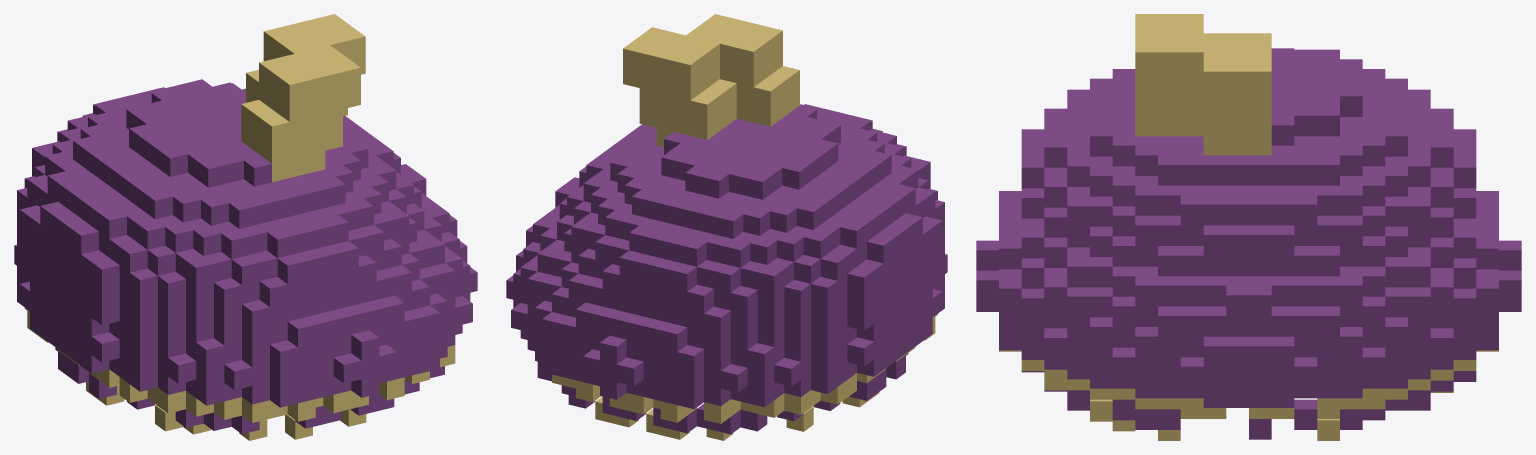
File: cloth_epic_shoulder_L.glb
3 views of the same model, side by side, from view 1: azimuth 30°, elevation 25°; view 2: azimuth 150°, elevation 25°; view 3: azimuth 270°, elevation 25° (orthographic). The views are drawn at different scales.
Parts seen in each view (by area): view 1: cloth_epic_shoulder_L; view 2: cloth_epic_shoulder_L; view 3: cloth_epic_shoulder_L.
Part boxes in pixels (x1,y1,x2,y2): cloth_epic_shoulder_L: (14, 14, 477, 440); cloth_epic_shoulder_L: (506, 14, 947, 440); cloth_epic_shoulder_L: (976, 14, 1521, 440).
Bounding box in the file's own units: 0.252 × 0.204 × 0.288.
